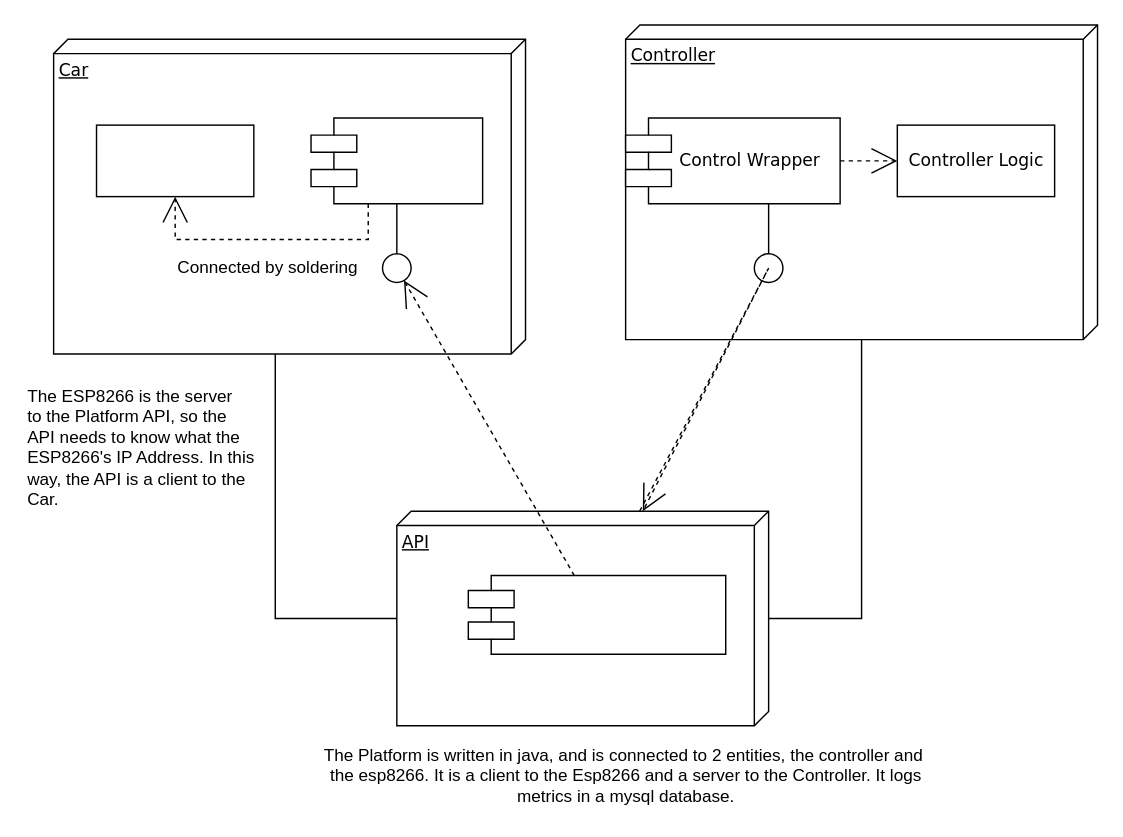
This 1123x837 diagram has some shape labels left out. Each missing label, with the centre of its shape:
ESP8266: the point at 396,160
Java Platform API: the point at 596,614
RC Car: the point at 174,160
